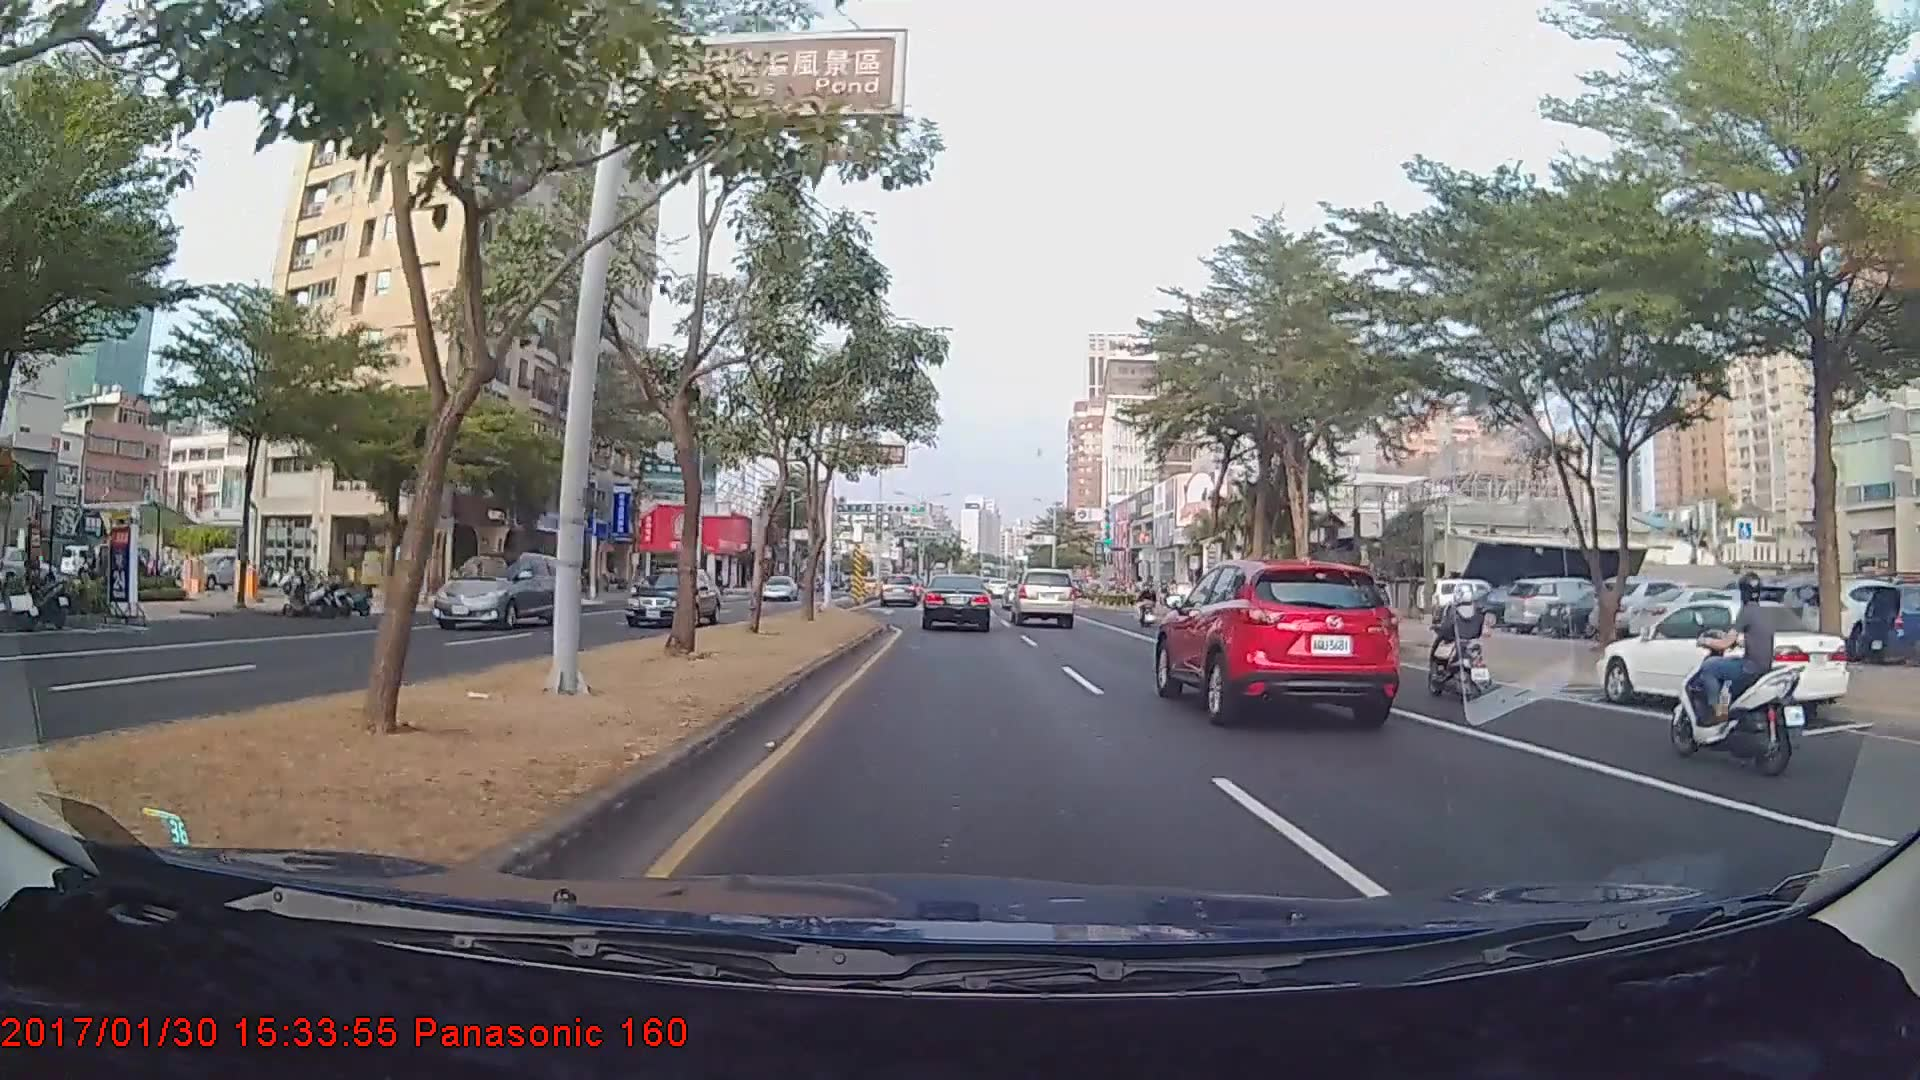rider: (1660, 555, 1814, 773), (1413, 577, 1500, 703), (1137, 572, 1162, 629)
vehicle: (1151, 555, 1399, 729), (1593, 596, 1850, 718), (432, 550, 564, 630), (1500, 574, 1616, 635), (624, 564, 721, 630), (1009, 567, 1077, 628), (921, 573, 991, 632), (879, 572, 920, 608), (762, 574, 794, 602)
